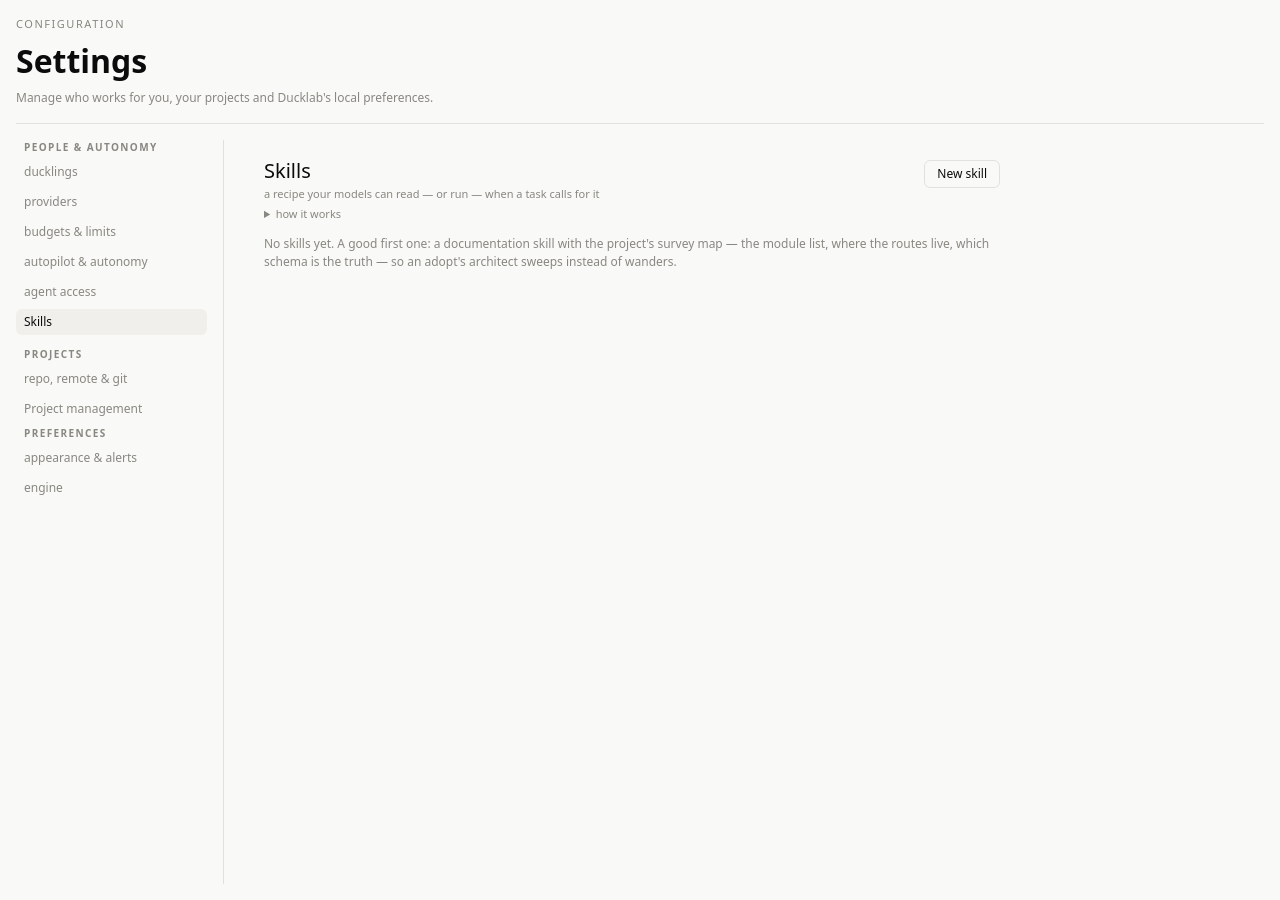
Test case: Settings hash navigation › navigates from a room to providers and renders its section
expect the element with test id "settings-room-skills" is shown: met, box [264,156,1000,270]
What coordinates should you click on to do the following:
click the link with test id "settings-nav-fleet"
I would click on:
 (51, 201)
Its box is [24,192,77,210].
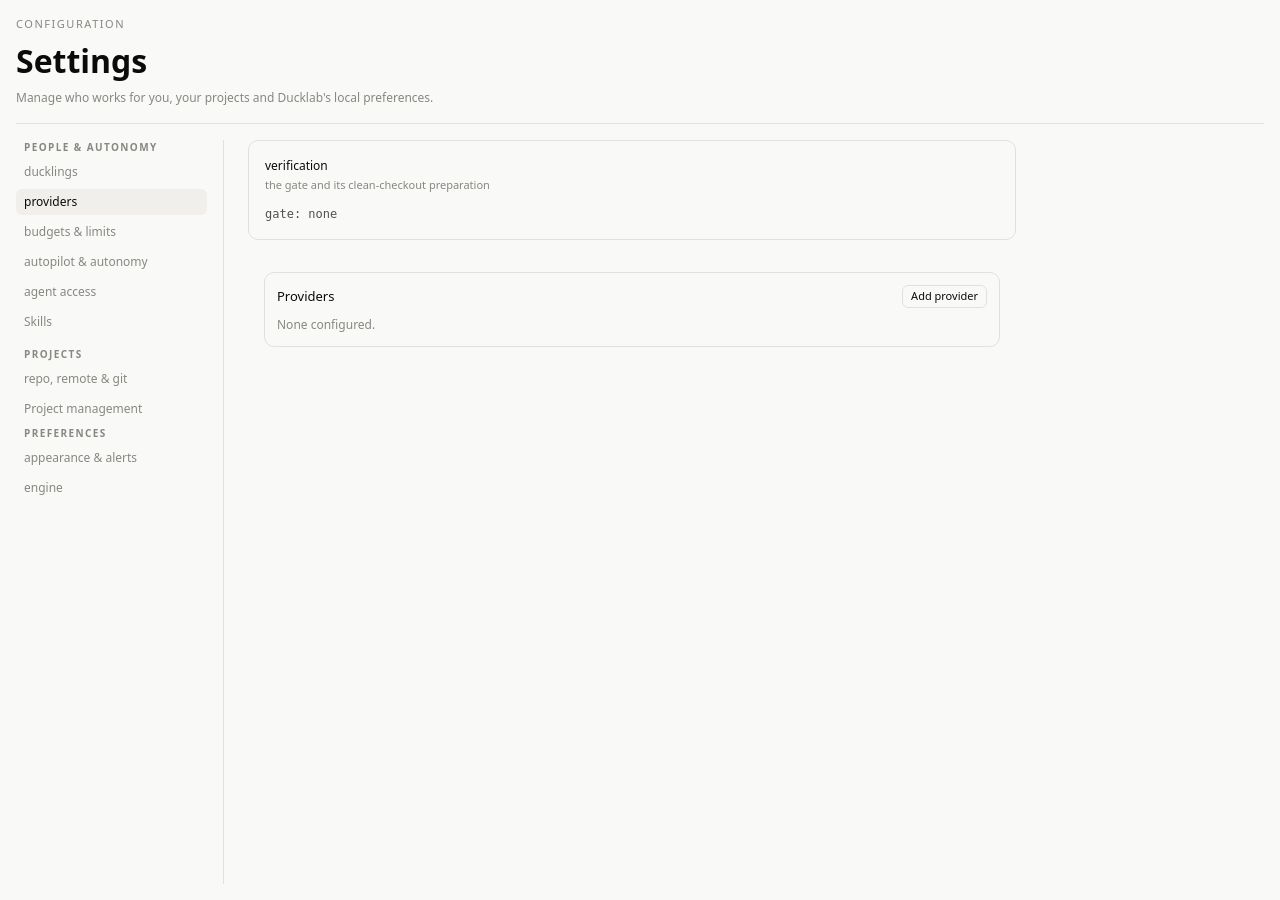
expect the element with test id "settings-section-fleet" is shown: met, box [248,140,1016,362]
expect the element with test id "ducklings-view" shows "Providers": met, box [277,286,334,304]
